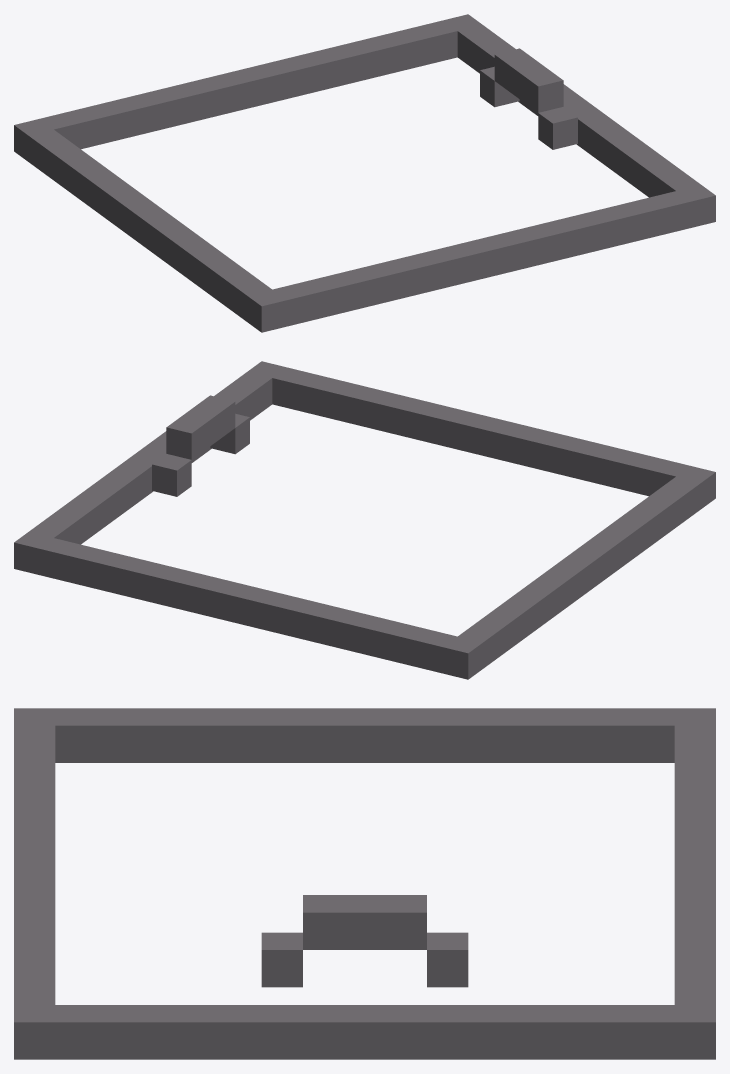
File: church-62-ch_trapdoormetal.glb
3 views of the same model, one above another, from view 1: azimuth 30°, elevation 25°; view 2: azimuth 150°, elevation 25°; view 3: azimuth 270°, elevation 25° (orthographic). The views are drawn at different scales.
Visible parts, largest first — view 1: ch_trapdoormetal; view 2: ch_trapdoormetal; view 3: ch_trapdoormetal.
Boxes of the visible parts, box(x1,y1,x2,y2) form: ch_trapdoormetal: box(14, 14, 715, 332); ch_trapdoormetal: box(14, 361, 715, 679); ch_trapdoormetal: box(14, 708, 715, 1059).
Bounding box in the file's own units: 1.8 × 0.3 × 1.7.
Materials: 1 (1 with a texture image).
